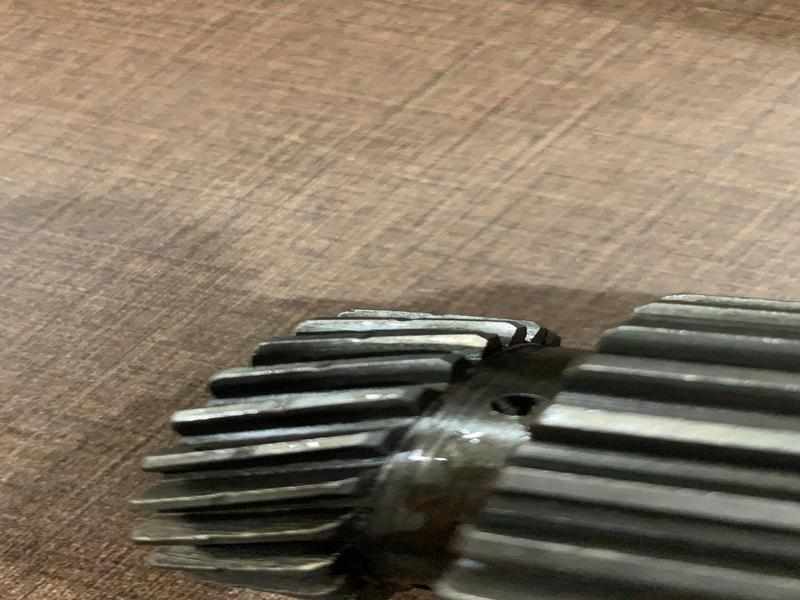engine gear ape: (176, 264, 800, 596)
